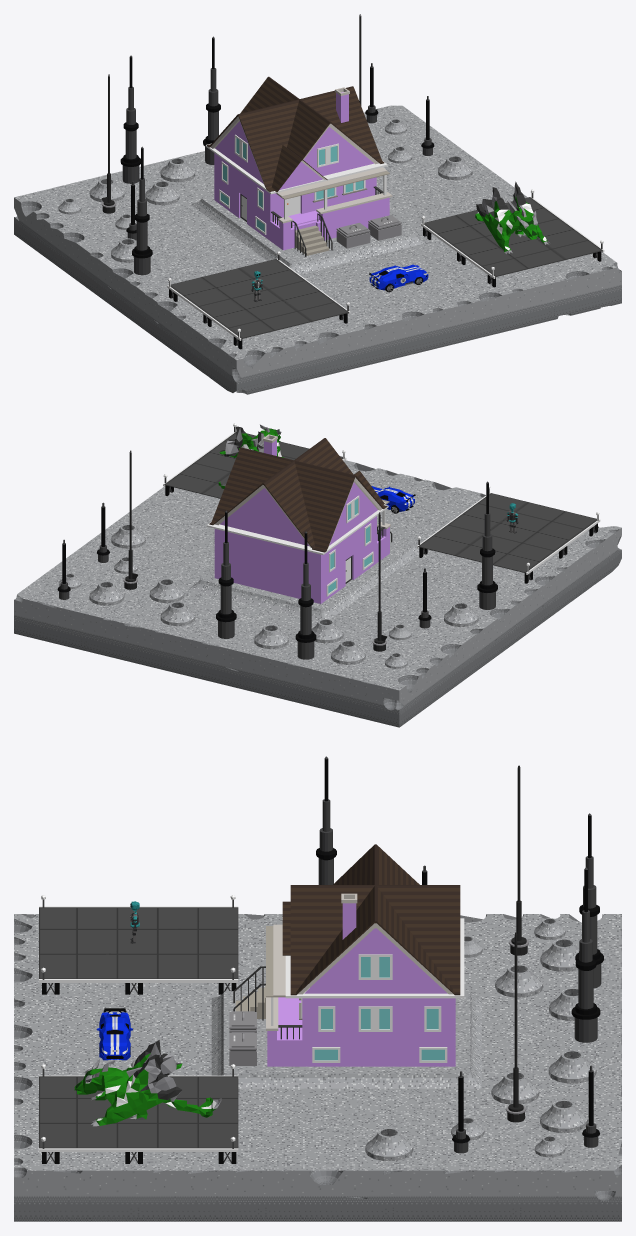
3 views of the same model, one above another, from view 1: azimuth 30°, elevation 25°; view 2: azimuth 150°, elevation 25°; view 3: azimuth 270°, elevation 25° (orthographic). The views are drawn at different scales.
Visible parts, largest first — view 1: Cube.027, Cube.391, Cube.025, Cube.026, Cube.028, ANIMAL_DRAGON, Cylinder.020, Cylinder.021, VEHICLES_RACING_CAR, Cylinder.017, Cube.029, Cube.030 (+4 smaller); view 2: Cube.027, Cube.391, Cube.025, Cube.028, Cube.026, Cylinder.020, Cylinder.021, Cylinder.017, ANIMAL_DRAGON, VEHICLES_RACING_CAR, Cylinder.031, Cylinder.028 (+8 smaller); view 3: Cube.027, Cube.391, Cube.025, Cube.026, Cube.028, ANIMAL_DRAGON, Cylinder.017, VEHICLES_RACING_CAR, Cylinder.020, Cylinder.021, Cylinder.033, Cylinder.031 (+10 smaller).
Part boxes in pixels (bbox=[...]): Cube.027: bbox=[14, 105, 621, 394]; Cube.391: bbox=[205, 76, 392, 256]; Cube.025: bbox=[167, 251, 350, 349]; Cube.026: bbox=[421, 189, 604, 287]; Cube.028: bbox=[191, 195, 424, 274]; ANIMAL_DRAGON: bbox=[475, 181, 550, 253]; Cylinder.020: bbox=[120, 55, 140, 183]; Cylinder.021: bbox=[132, 146, 152, 275]; VEHICLES_RACING_CAR: bbox=[369, 264, 428, 292]; Cylinder.017: bbox=[203, 36, 220, 164]; Cube.029: bbox=[336, 222, 370, 248]; Cube.030: bbox=[368, 215, 401, 240]; Cube.027: bbox=[14, 460, 621, 727]; Cube.391: bbox=[206, 434, 392, 603]; Cube.025: bbox=[417, 485, 600, 583]; Cube.028: bbox=[190, 538, 419, 620]; Cube.026: bbox=[163, 423, 346, 498]; Cylinder.020: bbox=[295, 531, 316, 659]; Cylinder.021: bbox=[477, 481, 497, 609]; Cylinder.017: bbox=[216, 510, 236, 638]; ANIMAL_DRAGON: bbox=[218, 424, 284, 488]; VEHICLES_RACING_CAR: bbox=[371, 486, 415, 513]; Cylinder.031: bbox=[89, 581, 124, 605]; Cylinder.028: bbox=[331, 640, 365, 664]; Cube.027: bbox=[14, 914, 621, 1221]; Cube.391: bbox=[233, 844, 464, 1066]; Cube.025: bbox=[39, 895, 238, 994]; Cube.026: bbox=[39, 1064, 238, 1163]; Cube.028: bbox=[211, 991, 481, 1088]; ANIMAL_DRAGON: bbox=[74, 1040, 221, 1126]; Cylinder.017: bbox=[571, 867, 600, 1042]; VEHICLES_RACING_CAR: bbox=[96, 1008, 132, 1060]; Cylinder.020: bbox=[575, 813, 603, 988]; Cylinder.021: bbox=[316, 756, 336, 884]; Cylinder.033: bbox=[365, 1128, 413, 1160]; Cylinder.031: bbox=[540, 1100, 587, 1132].
Size of the model in its own units: 4000 by 1815 by 4000.
Materials: 39 (4 with a texture image).
